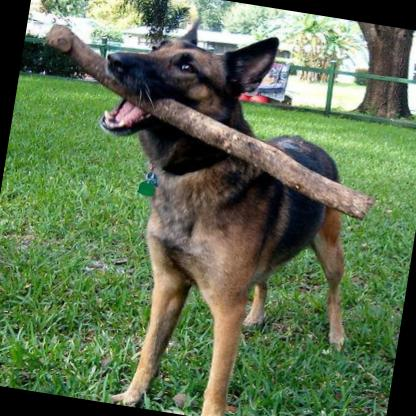malinois: (47, 4, 388, 416)
